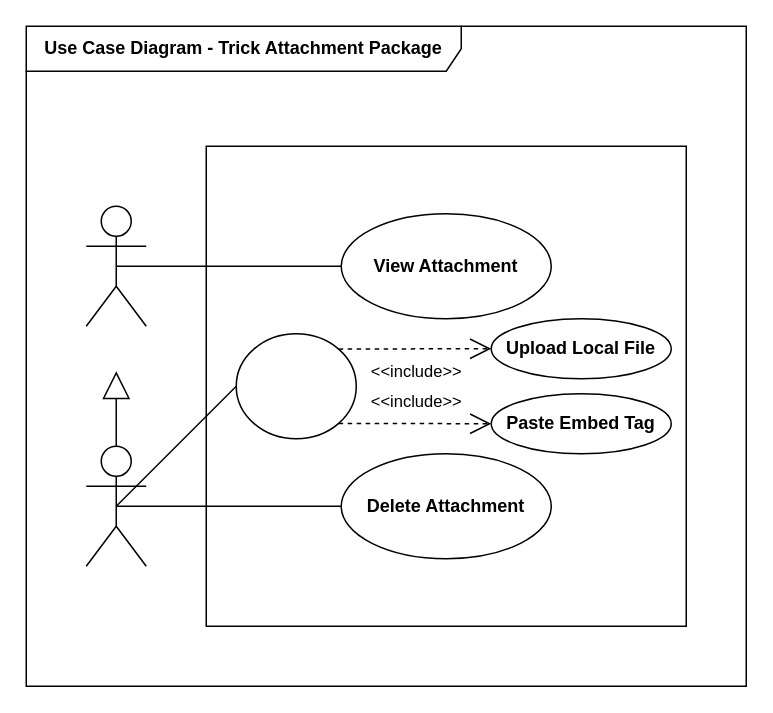
Some shapes in this 773 by 713 pixel diagram are drawn without their labels. The shapes that lost their labels are listed below. From the top down, each one's centre as x and y in pixels, then its label:
At [115,265]: "Visitor".
At [295,385]: "Create Attachment".
At [115,505]: "Contributor".
